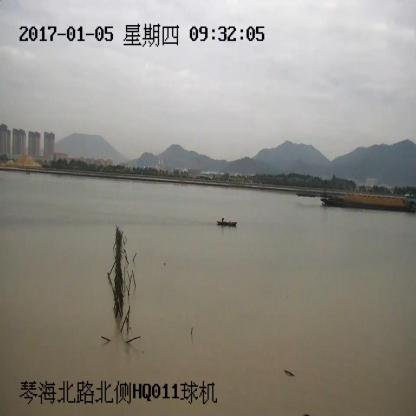Fishing Boat: (217, 218, 236, 228)
